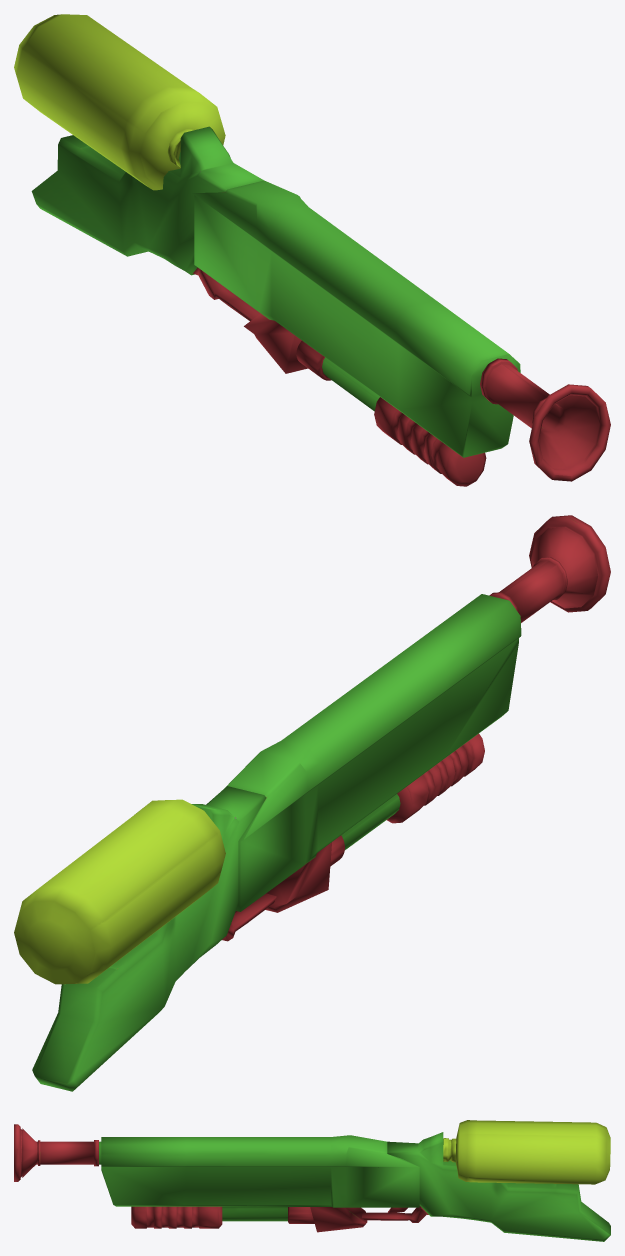
The model's file is ShotGunfix.glb.
3 renders of one model, top to bottom at view 1: azimuth 30°, elevation 25°; view 2: azimuth 150°, elevation 25°; view 3: azimuth 270°, elevation 25°, orthographic. The views are drawn at different scales.
Parts seen in each view (by area): view 1: Tube, Bottle.001, Body.002, Muzzle.002, Pump.001, Pump2; view 2: Tube, Bottle.001, Body.002, Muzzle.002, Pump.001, Pump2; view 3: Tube, Body.002, Bottle.001, Muzzle.002, Pump.001, Pump2.
Boxes of the visible parts, bbox=[...] form: Tube: bbox=[192, 180, 520, 457]; Bottle.001: bbox=[14, 14, 225, 190]; Body.002: bbox=[31, 126, 263, 320]; Muzzle.002: bbox=[480, 358, 610, 481]; Pump.001: bbox=[374, 397, 486, 486]; Pump2: bbox=[296, 340, 379, 411]; Tube: bbox=[225, 594, 521, 912]; Bottle.001: bbox=[14, 799, 225, 984]; Body.002: bbox=[32, 786, 276, 1091]; Muzzle.002: bbox=[489, 515, 610, 622]; Pump.001: bbox=[387, 733, 484, 823]; Pump2: bbox=[330, 794, 400, 866]; Tube: bbox=[101, 1135, 419, 1232]; Body.002: bbox=[362, 1132, 610, 1241]; Bottle.001: bbox=[443, 1120, 610, 1184]; Muzzle.002: bbox=[14, 1124, 101, 1181]; Pump.001: bbox=[131, 1206, 222, 1228]; Pump2: bbox=[222, 1206, 314, 1223].
Size of the model in its own units: 0.1441 by 0.2892 by 1.37.
Materials: 1 (1 with a texture image).
